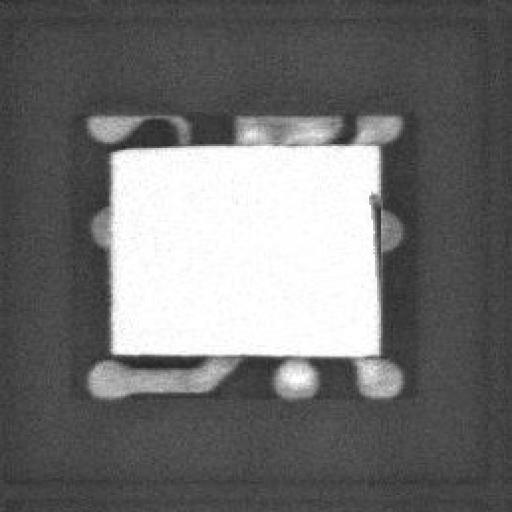DIE_BROKEN: (361, 184, 381, 286)
